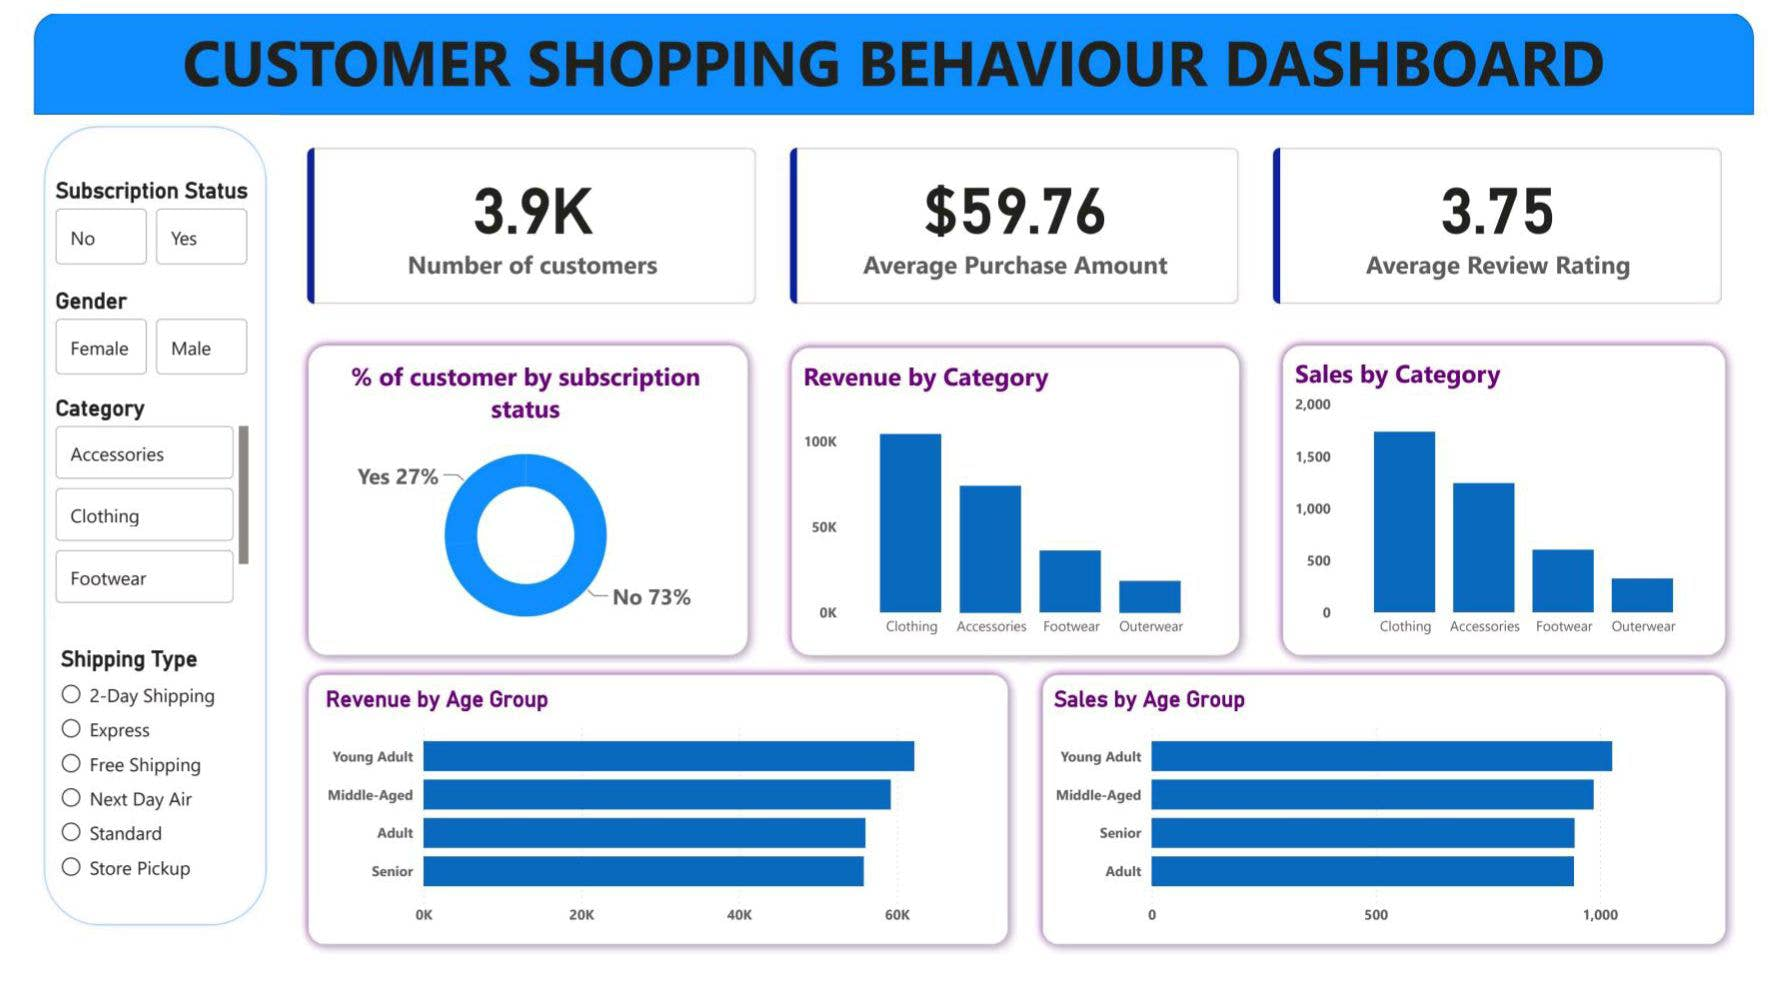

The page's visual inventory and layout, read from the dashboard file:
{"tool":"powerbi","page":{"name":"Page 1","canvas":[1500,820],"ordinal":0},"visuals":[{"type":"cardVisual","fields":{"Data":["customer_behaviour customer.Number of customers","customer_behaviour customer.Average Purchase Amount","customer_behaviour customer.Average Review Rating"]},"box":[210.6,88.6,1289.4,192.9],"z":0},{"type":"shape","box":[0,0,1500,88.6],"z":1000},{"type":"textbox","box":[0,0,1500,88.6],"z":2000},{"type":"shape","box":[230.3,281.5,399.6,287.4],"z":3000},{"type":"donutChart","title":"% of customer by subscription status","fields":{"Category":["customer_behaviour customer.subscription_status"],"Y":["CountNonNull(customer_behaviour customer.customer_id)"]},"box":[250,301.2,358.3,250],"z":4000},{"type":"shape","box":[651.6,283.5,407.5,285.4],"z":5000},{"type":"shape","box":[1080.7,281.5,401.6,287.4],"z":6000},{"type":"clusteredColumnChart","title":"Revenue by Category","fields":{"Category":["customer_behaviour customer.category"],"Y":["Sum(customer_behaviour customer.purchase_amount)"]},"box":[667.3,301.2,368.1,250],"z":7000},{"type":"clusteredColumnChart","title":"Sales by Category","fields":{"Category":["customer_behaviour customer.category"],"Y":["CountNonNull(customer_behaviour customer.customer_id)"]},"box":[1096.5,299.2,368.1,252],"z":8000},{"type":"shape","box":[0,88.6,210.6,714.6],"z":9000},{"type":"advancedSlicerVisual","title":"Subscription Status","fields":{"Values":["customer_behaviour customer.subscription_status"]},"box":[13.8,143.7,177.2,80.7],"z":10000},{"type":"advancedSlicerVisual","title":"Category","fields":{"Values":["customer_behaviour customer.category"]},"box":[13.8,332.7,177.2,189],"z":11000},{"type":"listSlicer","title":"Shipping Type","fields":{"Values":["customer_behaviour customer.shipping_type"]},"box":[19.7,551.2,173.2,222.4],"z":12000},{"type":"shape","box":[230.3,568.9,626,252],"z":13000},{"type":"shape","box":[870.1,568.9,612.2,252],"z":14000},{"type":"clusteredBarChart","title":"Sales by Age Group","fields":{"Y":["CountNonNull(customer_behaviour customer.customer_id)"],"Category":["customer_behaviour customer.age_group"]},"box":[885.8,586.6,578.7,216.5],"z":15000},{"type":"clusteredBarChart","title":"Revenue by Age Group","fields":{"Y":["Sum(customer_behaviour customer.purchase_amount)"],"Category":["customer_behaviour customer.age_group"]},"box":[250,586.6,586.6,216.5],"z":16000},{"type":"advancedSlicerVisual","title":"Gender","fields":{"Values":["customer_behaviour customer.gender"]},"box":[13.8,240.2,177.2,80.7],"z":17000}]}

Visuals, with their boxes in screenshot pixels (x1, y1, x2, y2), scaled from the page's 1500x820 canvas onto the 1790x995 screenshot:
cardVisual - customer_behaviour customer.Number of customers x customer_behaviour customer.Average Purchase Amount: (x1=251, y1=108, x2=1789, y2=342)
shape: (x1=0, y1=0, x2=1789, y2=108)
textbox: (x1=0, y1=0, x2=1789, y2=108)
shape: (x1=275, y1=342, x2=752, y2=690)
"% of customer by subscription status" donutChart: (x1=298, y1=365, x2=726, y2=669)
shape: (x1=778, y1=344, x2=1264, y2=690)
shape: (x1=1290, y1=342, x2=1769, y2=690)
"Revenue by Category" clusteredColumnChart: (x1=796, y1=365, x2=1236, y2=669)
"Sales by Category" clusteredColumnChart: (x1=1308, y1=363, x2=1748, y2=669)
shape: (x1=0, y1=108, x2=251, y2=975)
"Subscription Status" advancedSlicerVisual: (x1=16, y1=174, x2=228, y2=272)
"Category" advancedSlicerVisual: (x1=16, y1=404, x2=228, y2=633)
"Shipping Type" listSlicer: (x1=24, y1=669, x2=230, y2=939)
shape: (x1=275, y1=690, x2=1022, y2=994)
shape: (x1=1038, y1=690, x2=1769, y2=994)
"Sales by Age Group" clusteredBarChart: (x1=1057, y1=712, x2=1748, y2=974)
"Revenue by Age Group" clusteredBarChart: (x1=298, y1=712, x2=998, y2=974)
"Gender" advancedSlicerVisual: (x1=16, y1=291, x2=228, y2=389)
